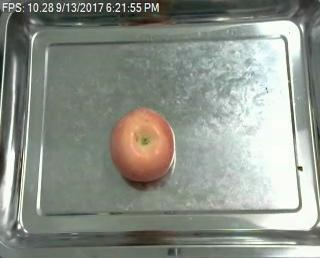apple: (109, 108, 176, 182)
